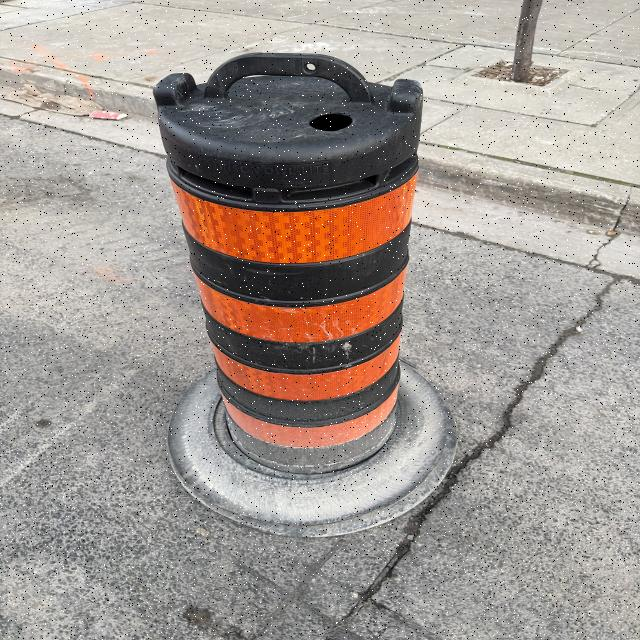Teraffic Barrel: (154, 54, 455, 535)
